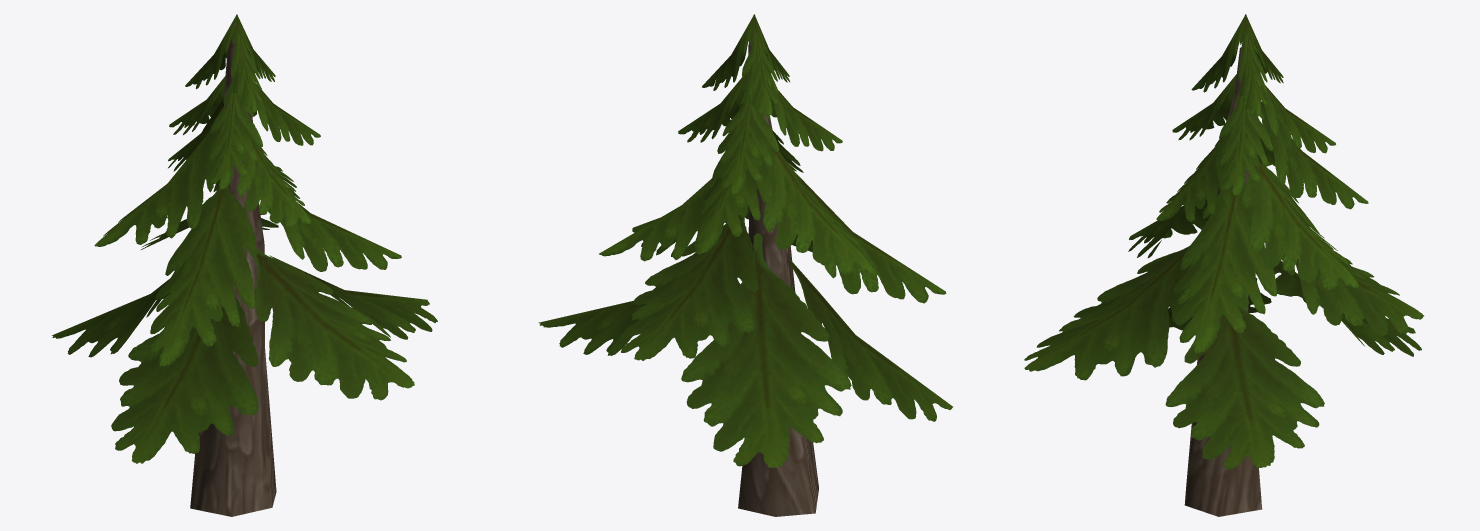
Rendered from Lty_shuye02.FBX.
3 renders of one model, left to right at view 1: azimuth 30°, elevation 25°; view 2: azimuth 150°, elevation 25°; view 3: azimuth 270°, elevation 25°, orthographic. The views are drawn at different scales.
Visible parts, largest first — view 1: Lty_shuye02, Lty_shugan02; view 2: Lty_shuye02, Lty_shugan02; view 3: Lty_shuye02, Lty_shugan02.
Boxes of the visible parts, box(x1,y1,x2,y2) form: Lty_shuye02: box(52, 14, 437, 463); Lty_shugan02: box(190, 22, 276, 516); Lty_shuye02: box(538, 14, 952, 467); Lty_shugan02: box(738, 42, 818, 516); Lty_shuye02: box(1024, 14, 1423, 469); Lty_shugan02: box(1184, 43, 1262, 516).
Bounding box in the file's own units: 203 × 209 × 238.
